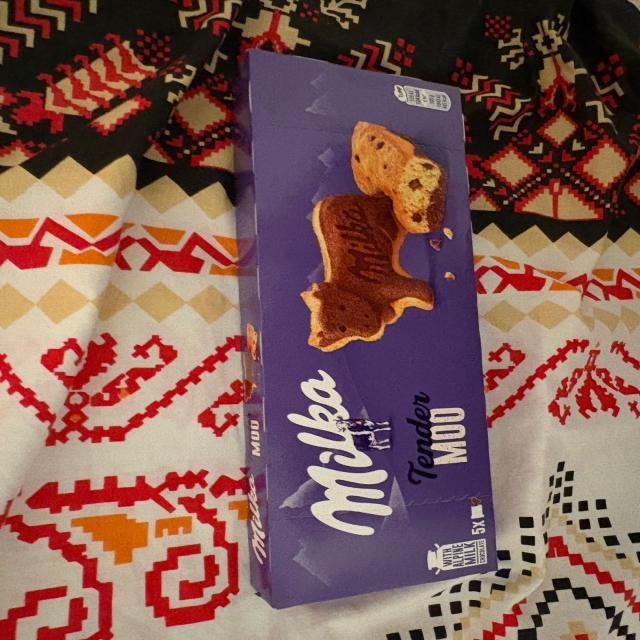good_package: (226, 49, 500, 612)
